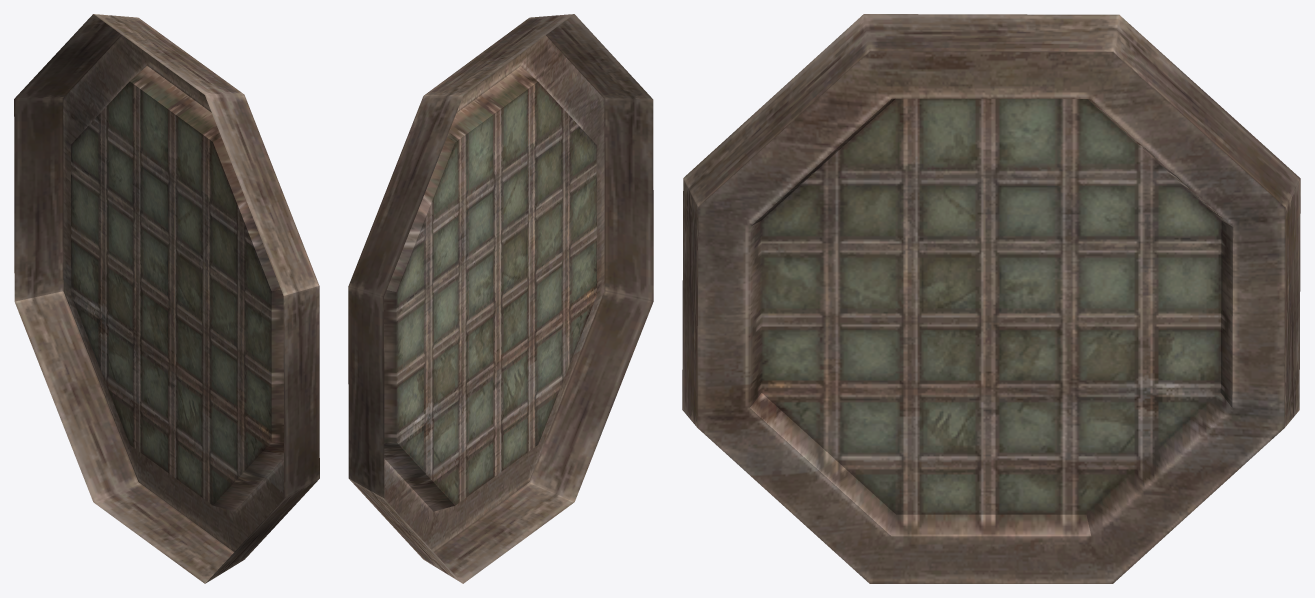
File: bg_anh_etc_wd03_sm_old.FBX
3 renders of one model, left to right at view 1: azimuth 30°, elevation 25°; view 2: azimuth 150°, elevation 25°; view 3: azimuth 270°, elevation 25°, orthographic. The views are drawn at different scales.
Visible parts, largest first — view 1: bg_anh_etc_wd03_sm_old; view 2: bg_anh_etc_wd03_sm_old; view 3: bg_anh_etc_wd03_sm_old.
Boxes of the visible parts, x1,y1,x2,y2 form: bg_anh_etc_wd03_sm_old: [14, 14, 319, 583]; bg_anh_etc_wd03_sm_old: [348, 14, 653, 583]; bg_anh_etc_wd03_sm_old: [682, 14, 1300, 583].
Size of the model in its own units: 7.5 by 82.63 by 82.69.
